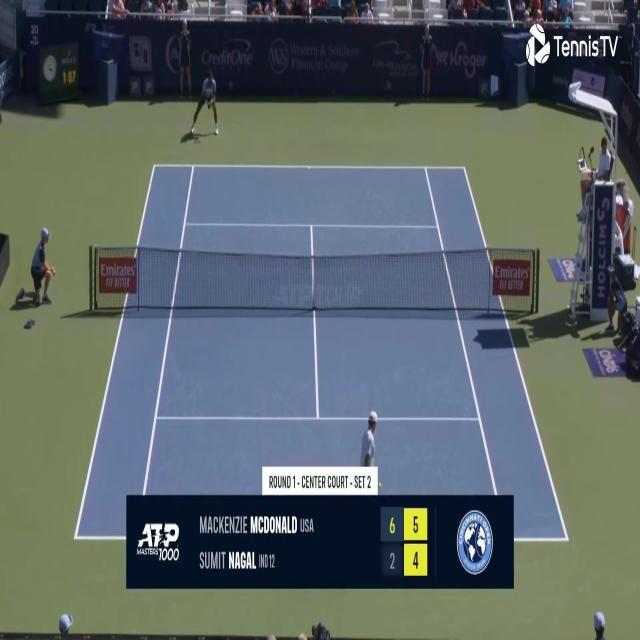tennis-player: (352, 406, 382, 495), (189, 64, 220, 140)
